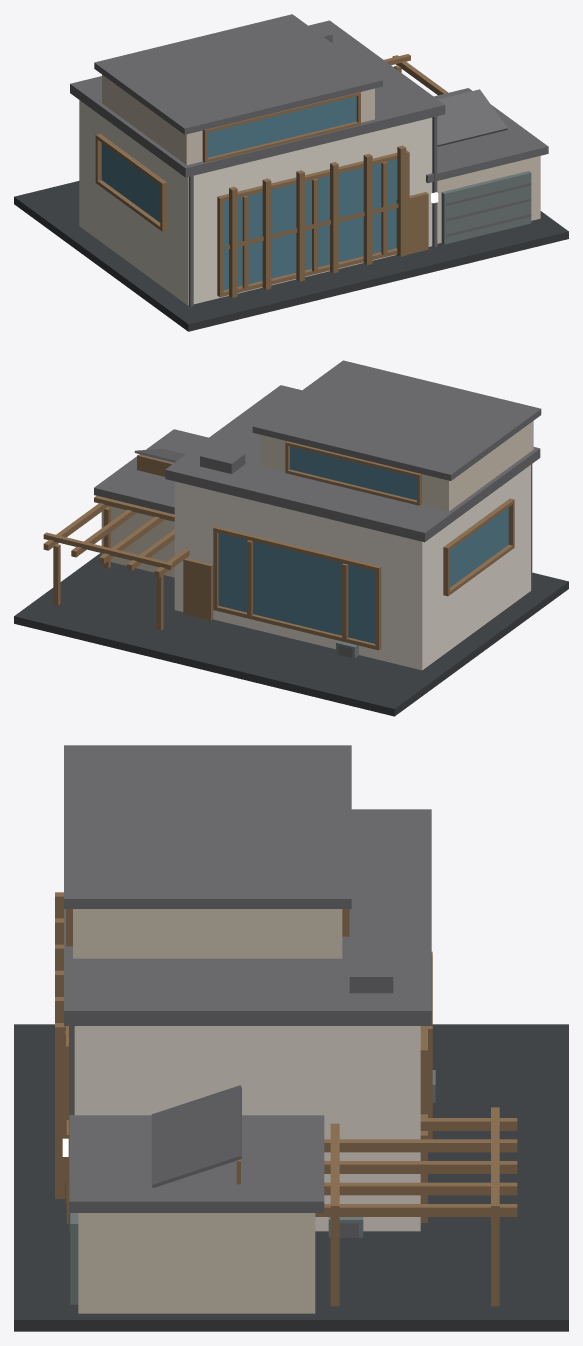
Rendered from villa_b.glb.
The picture shows the model from 3 angles, top to bottom: view 1: azimuth 30°, elevation 25°; view 2: azimuth 150°, elevation 25°; view 3: azimuth 270°, elevation 25°; orthographic projection. The views are drawn at different scales.
Visible parts, largest first — view 1: Merged_RoofDark, villab_main, Merged_VillaWood, Merged_VillaGlass, Merged_VillaGranite, Merged_VillaStone, Merged_TownGarage; view 2: Merged_RoofDark, Merged_VillaGranite, villab_main, Merged_VillaGlass, Merged_VillaWood, Merged_VillaStone; view 3: Merged_RoofDark, Merged_VillaGranite, Merged_VillaStone, villab_main, Merged_VillaWood, Merged_TownGarage.
Boxes of the visible parts, x1=… form: Merged_RoofDark: x1=70, y1=14, x2=548, y2=306; villab_main: x1=79, y1=100, x2=432, y2=305; Merged_VillaWood: x1=95, y1=54, x2=448, y2=297; Merged_VillaGlass: x1=101, y1=96, x2=397, y2=290; Merged_VillaGranite: x1=14, y1=181, x2=568, y2=331; Merged_VillaStone: x1=102, y1=74, x2=540, y2=243; Merged_TownGarage: x1=441, y1=171, x2=531, y2=244; Merged_RoofDark: x1=94, y1=360, x2=541, y2=657; Merged_VillaGranite: x1=14, y1=553, x2=568, y2=716; villab_main: x1=174, y1=465, x2=530, y2=670; Merged_VillaGlass: x1=218, y1=446, x2=508, y2=643; Merged_VillaWood: x1=43, y1=441, x2=514, y2=650; Merged_VillaStone: x1=101, y1=421, x2=533, y2=577; Merged_RoofDark: x1=64, y1=745, x2=431, y2=1237; Merged_VillaGranite: x1=14, y1=1024, x2=568, y2=1331; Merged_VillaStone: x1=73, y1=909, x2=342, y2=1313; villab_main: x1=74, y1=1026, x2=420, y2=1231; Merged_VillaWood: x1=55, y1=892, x2=517, y2=1306; Merged_TownGarage: x1=70, y1=1070, x2=435, y2=1304.
Size of the model in its own units: 19.2 by 9.1 by 15.24.
